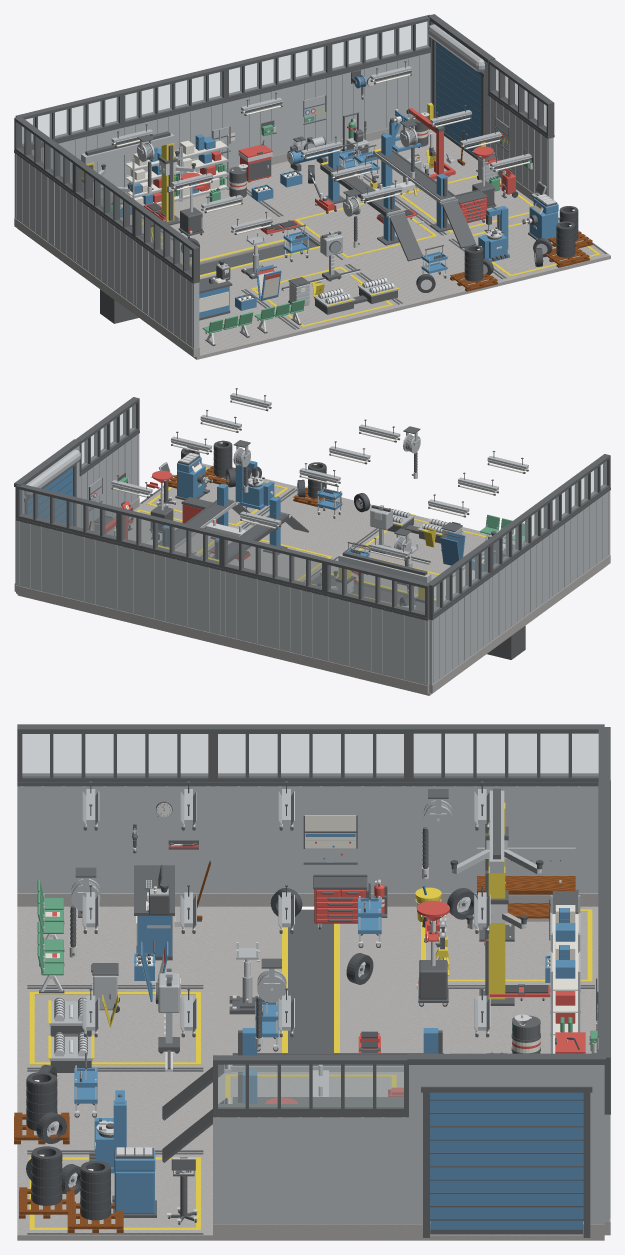
Rendered from car-repair-garage.glb.
3 views of the same model, one above another, from view 1: azimuth 30°, elevation 25°; view 2: azimuth 150°, elevation 25°; view 3: azimuth 270°, elevation 25° (orthographic). The views are drawn at different scales.
Parts seen in each view (by area): view 1: 026-car-repair-garage-and-mot-workshop-roller-shutter-door-m (×4), 069-car-repair-garage-and-mot-workshop-four-post-vehicle-lif (×3), 015-car-repair-garage-and-mot-workshop-workshop-wall-panel/1, 014-car-repair-garage-and-mot-workshop-workshop-wall-panel/1, 017-car-repair-garage-and-mot-workshop-workshop-window-strip (×2), 018-car-repair-garage-and-mot-workshop-workshop-window-strip (×2), 019-car-repair-garage-and-mot-workshop-workshop-window-strip (×2), 022-car-repair-garage-and-mot-workshop-workshop-wall-panel/1, 006-car-repair-garage-and-mot-workshop-floor-tile-plain/0, 020-car-repair-garage-and-mot-workshop-workshop-wall-panel/1, 021-car-repair-garage-and-mot-workshop-workshop-wall-panel/1, 016-car-repair-garage-and-mot-workshop-workshop-window-strip (×2) (+37 smaller); view 2: 012-car-repair-garage-and-mot-workshop-workshop-wall-panel/1, 015-car-repair-garage-and-mot-workshop-workshop-wall-panel/1, 014-car-repair-garage-and-mot-workshop-workshop-wall-panel/1, 013-car-repair-garage-and-mot-workshop-workshop-wall-panel/1, 016-car-repair-garage-and-mot-workshop-workshop-window-strip (×2), 019-car-repair-garage-and-mot-workshop-workshop-window-strip (×2), 017-car-repair-garage-and-mot-workshop-workshop-window-strip (×2), 018-car-repair-garage-and-mot-workshop-workshop-window-strip (×2), 020-car-repair-garage-and-mot-workshop-workshop-wall-panel/1, 022-car-repair-garage-and-mot-workshop-workshop-wall-panel/1, 021-car-repair-garage-and-mot-workshop-workshop-wall-panel/1, 006-car-repair-garage-and-mot-workshop-floor-tile-plain/0 (+29 smaller); view 3: 026-car-repair-garage-and-mot-workshop-roller-shutter-door-m (×4), 027-car-repair-garage-and-mot-workshop-workshop-wall-panel/1, 022-car-repair-garage-and-mot-workshop-workshop-wall-panel/1, 021-car-repair-garage-and-mot-workshop-workshop-wall-panel/1, 020-car-repair-garage-and-mot-workshop-workshop-wall-panel/1, 025-car-repair-garage-and-mot-workshop-workshop-window-strip (×2), 028-car-repair-garage-and-mot-workshop-workshop-window-strip (×2), 024-car-repair-garage-and-mot-workshop-workshop-window-strip (×2), 023-car-repair-garage-and-mot-workshop-workshop-window-strip (×2), 006-car-repair-garage-and-mot-workshop-floor-tile-plain/0, 001-car-repair-garage-and-mot-workshop-floor-tile-plain/0, 003-car-repair-garage-and-mot-workshop-floor-tile-marked/0 (+55 smaller).
Boxes of the visible parts, x1,y1,x2,y2 form: 026-car-repair-garage-and-mot-workshop-roller-shutter-door-m (×4): (428,14,495,159); 069-car-repair-garage-and-mot-workshop-four-post-vehicle-lif (×3): (320,133,475,261); 015-car-repair-garage-and-mot-workshop-workshop-wall-panel/1: (329,53,430,142); 014-car-repair-garage-and-mot-workshop-workshop-wall-panel/1: (226,77,329,167); 017-car-repair-garage-and-mot-workshop-workshop-window-strip (×2): (119,65,226,125); 018-car-repair-garage-and-mot-workshop-workshop-window-strip (×2): (223,40,329,100); 019-car-repair-garage-and-mot-workshop-workshop-window-strip (×2): (327,14,430,74); 022-car-repair-garage-and-mot-workshop-workshop-wall-panel/1: (134,241,199,348); 006-car-repair-garage-and-mot-workshop-floor-tile-plain/0: (344,237,507,309); 020-car-repair-garage-and-mot-workshop-workshop-wall-panel/1: (14,153,74,261); 021-car-repair-garage-and-mot-workshop-workshop-wall-panel/1: (74,197,134,304); 016-car-repair-garage-and-mot-workshop-workshop-window-strip (×2): (15,90,122,148); 012-car-repair-garage-and-mot-workshop-workshop-wall-panel/1: (325,596,429,685); 015-car-repair-garage-and-mot-workshop-workshop-wall-panel/1: (16,520,119,610); 014-car-repair-garage-and-mot-workshop-workshop-wall-panel/1: (119,546,221,635); 013-car-repair-garage-and-mot-workshop-workshop-wall-panel/1: (222,571,324,660); 016-car-repair-garage-and-mot-workshop-workshop-window-strip (×2): (324,558,429,618); 019-car-repair-garage-and-mot-workshop-workshop-window-strip (×2): (16,484,121,543); 017-car-repair-garage-and-mot-workshop-workshop-window-strip (×2): (221,533,327,593); 018-car-repair-garage-and-mot-workshop-workshop-window-strip (×2): (119,508,224,568); 020-car-repair-garage-and-mot-workshop-workshop-wall-panel/1: (429,578,491,685); 022-car-repair-garage-and-mot-workshop-workshop-wall-panel/1: (550,490,610,597); 021-car-repair-garage-and-mot-workshop-workshop-wall-panel/1: (491,534,550,641); 006-car-repair-garage-and-mot-workshop-floor-tile-plain/0: (241,488,378,554); 026-car-repair-garage-and-mot-workshop-roller-shutter-door-m (×4): (407,1053,605,1237); 027-car-repair-garage-and-mot-workshop-workshop-wall-panel/1: (213,1117,408,1223); 022-car-repair-garage-and-mot-workshop-workshop-wall-panel/1: (17,786,212,892); 021-car-repair-garage-and-mot-workshop-workshop-wall-panel/1: (213,786,408,892); 020-car-repair-garage-and-mot-workshop-workshop-wall-panel/1: (409,786,598,892); 025-car-repair-garage-and-mot-workshop-workshop-window-strip (×2): (17,724,212,782); 028-car-repair-garage-and-mot-workshop-workshop-window-strip (×2): (213,1055,408,1113); 024-car-repair-garage-and-mot-workshop-workshop-window-strip (×2): (213,724,408,782); 023-car-repair-garage-and-mot-workshop-workshop-window-strip (×2): (409,724,604,782); 006-car-repair-garage-and-mot-workshop-floor-tile-plain/0: (17,1069,212,1152); 001-car-repair-garage-and-mot-workshop-floor-tile-plain/0: (17,906,212,986); 003-car-repair-garage-and-mot-workshop-floor-tile-marked/0: (17,987,212,1069).
Bounding box in the file's own units: 16.27 × 5.05 × 12.2.
12 materials, 2 textured.
